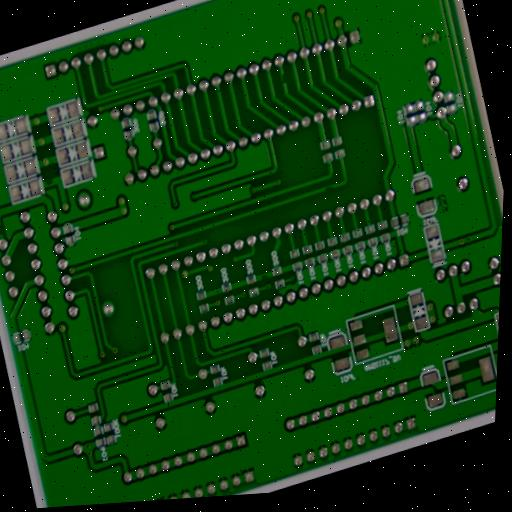mouse_bite: (42, 172, 58, 189), (322, 180, 338, 196), (279, 69, 291, 88), (258, 269, 272, 283), (0, 220, 7, 240)
